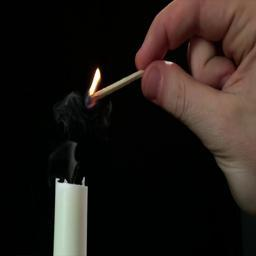fire: (89, 68, 100, 96)
